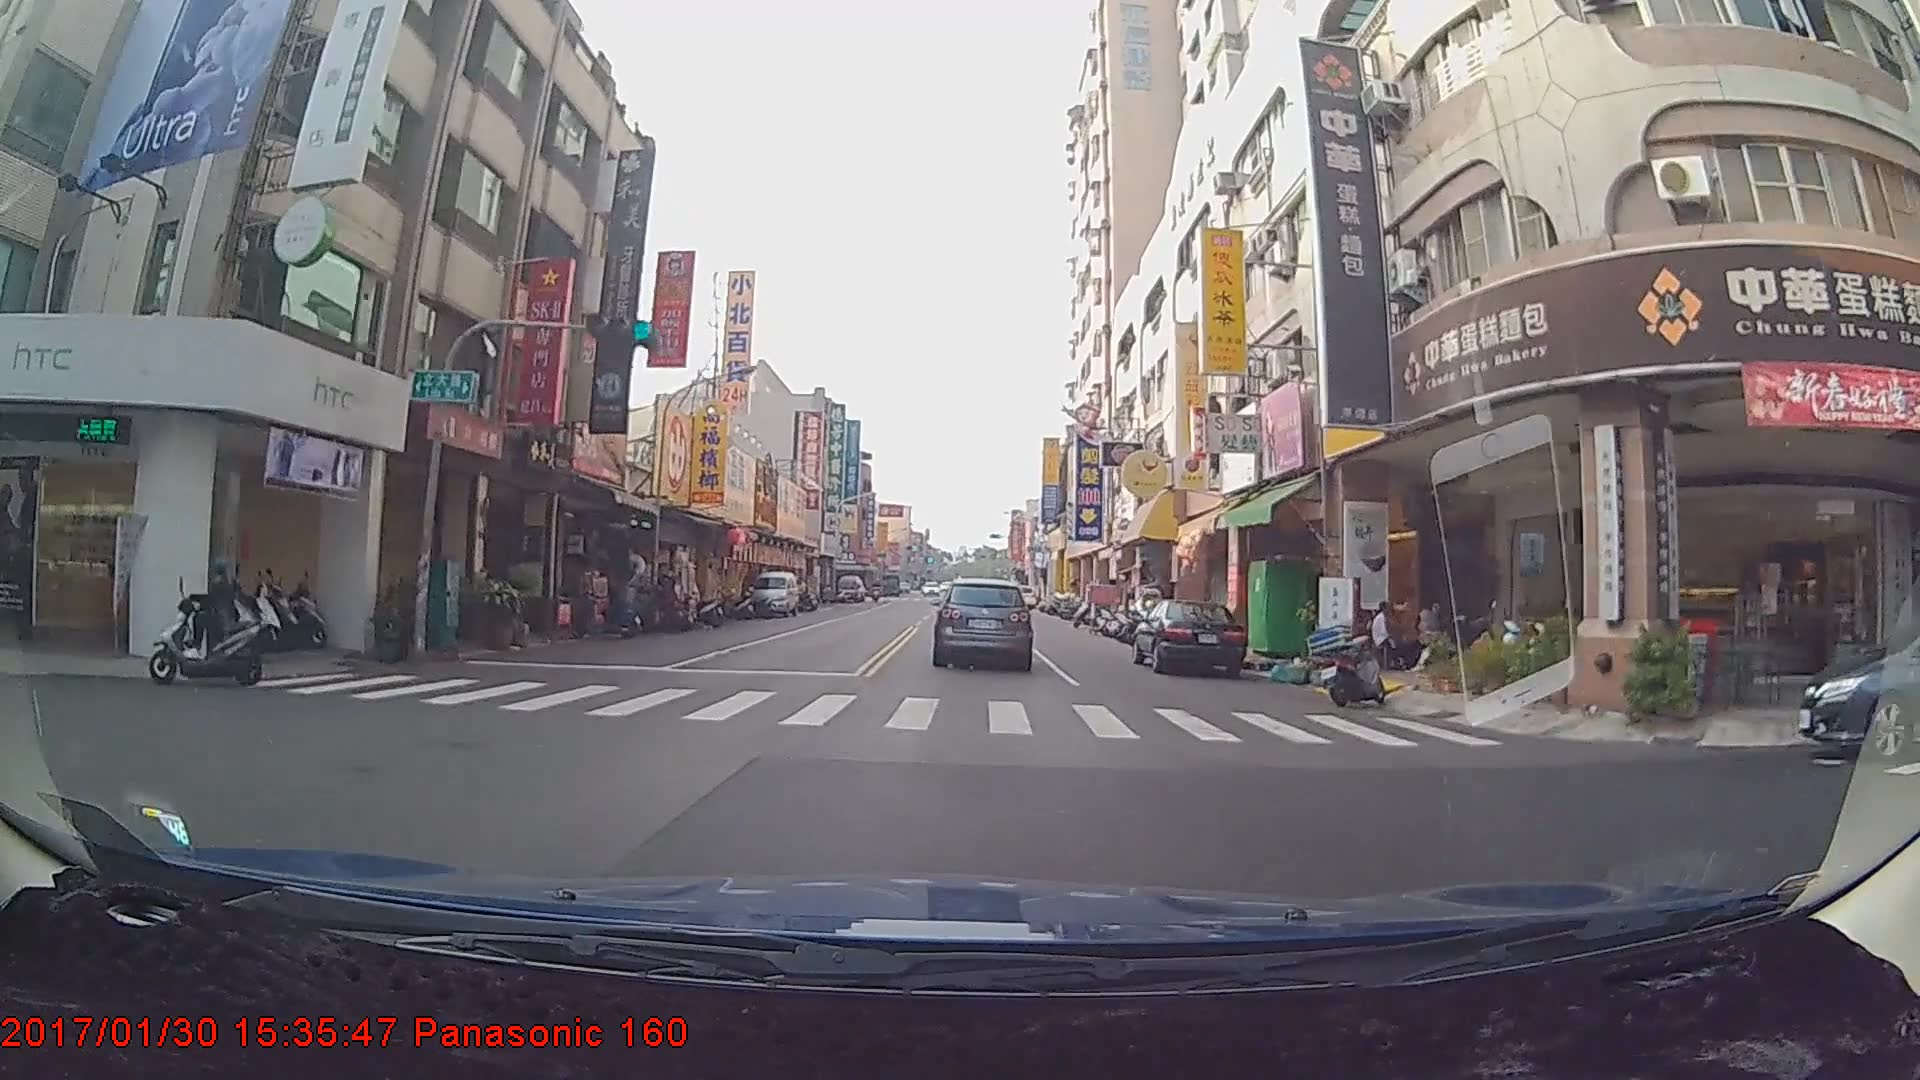pedestrian: (1406, 599, 1440, 674), (1366, 598, 1399, 672)
rider: (142, 555, 268, 686)
vehicle: (1795, 606, 1920, 763), (934, 578, 1032, 668), (1139, 598, 1245, 676), (744, 569, 797, 617), (837, 575, 866, 604)
